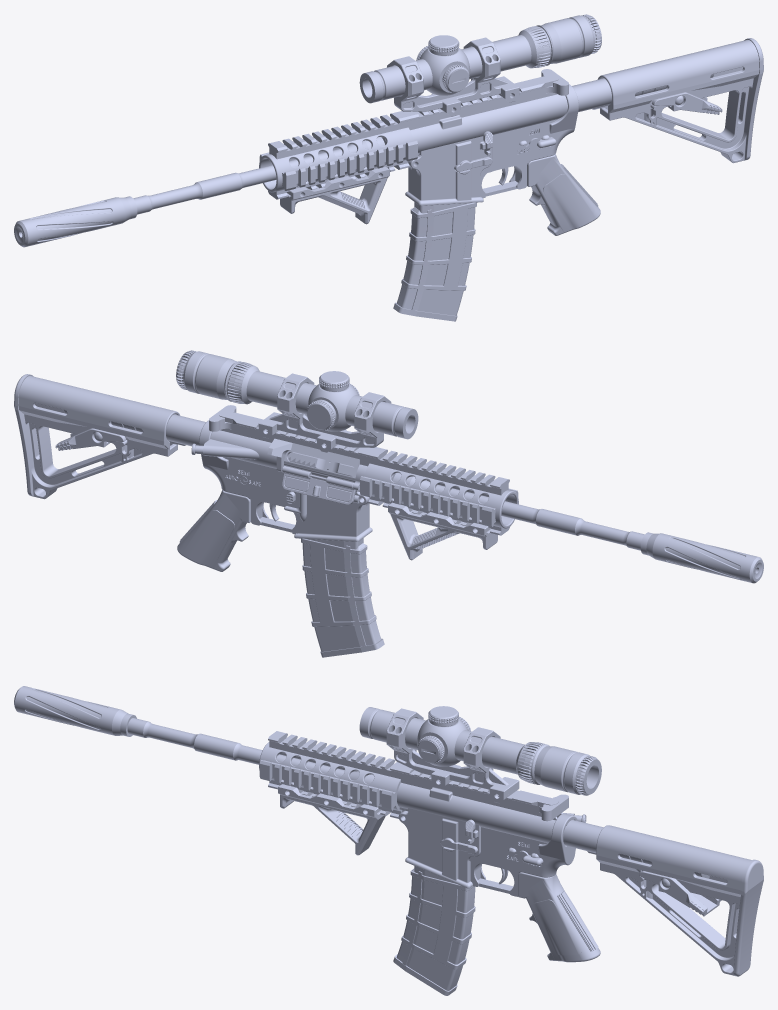
File: AR-15_Assembly.glb
3 views of the same model, one above another, from view 1: azimuth 30°, elevation 25°; view 2: azimuth 150°, elevation 25°; view 3: azimuth 330°, elevation 25° (orthographic).
Visible parts, largest first — view 1: Magpul MOE Carbine-1, Vortex Razor HD Gen III 1-10X24 Assembly-1/Vortex Razor HD G (×3), AR-15 Standard Handguard-1, AR15 Lower Receiver-1, PMAG 30 Gen M3 AR-15 Body-1, AR15 Upper Receiver-1, AR-15 Pistol Grip-1, 5.56 Banish Suppressor-1, AR-15 12.5 Barrel-1, Picatinny Angle Grip-1, Geissele 34MM Assembly-1/Geissele 34MM Body-1, Carbine-1 (+3 smaller); view 2: Magpul MOE Carbine-1, Vortex Razor HD Gen III 1-10X24 Assembly-1/Vortex Razor HD G (×3), AR-15 Standard Handguard-1, PMAG 30 Gen M3 AR-15 Body-1, AR15 Lower Receiver-1, AR15 Upper Receiver-1, AR-15 Pistol Grip-1, 5.56 Banish Suppressor-1, AR-15 12.5 Barrel-1, Picatinny Angle Grip-1, Geissele 34MM Assembly-1/Geissele 34MM Body-1, AR-15 Dust Cover-1 (+5 smaller); view 3: Magpul MOE Carbine-1, Vortex Razor HD Gen III 1-10X24 Assembly-1/Vortex Razor HD G (×3), AR15 Lower Receiver-1, AR-15 Standard Handguard-1, PMAG 30 Gen M3 AR-15 Body-1, AR15 Upper Receiver-1, AR-15 Pistol Grip-1, 5.56 Banish Suppressor-1, AR-15 12.5 Barrel-1, Geissele 34MM Assembly-1/Geissele 34MM Body-1, Picatinny Angle Grip-1, Adjuster-1 (+3 smaller).
Part boxes in pixels (x1,y1,x2,y2): Magpul MOE Carbine-1: [597, 38, 763, 163]; Vortex Razor HD Gen III 1-10X24 Assembly-1/Vortex Razor HD G (×3): [359, 14, 601, 103]; AR-15 Standard Handguard-1: [259, 111, 417, 199]; AR15 Lower Receiver-1: [405, 84, 578, 205]; PMAG 30 Gen M3 AR-15 Body-1: [396, 170, 476, 315]; AR15 Upper Receiver-1: [381, 74, 567, 155]; AR-15 Pistol Grip-1: [527, 153, 600, 235]; 5.56 Banish Suppressor-1: [14, 196, 137, 247]; AR-15 12.5 Barrel-1: [133, 137, 385, 214]; Picatinny Angle Grip-1: [280, 166, 389, 224]; Geissele 34MM Assembly-1/Geissele 34MM Body-1: [394, 60, 519, 116]; Carbine-1: [572, 74, 713, 111]; Magpul MOE Carbine-1: [14, 374, 180, 499]; Vortex Razor HD Gen III 1-10X24 Assembly-1/Vortex Razor HD G (×3): [176, 350, 418, 439]; AR-15 Standard Handguard-1: [360, 447, 518, 535]; PMAG 30 Gen M3 AR-15 Body-1: [301, 538, 381, 651]; AR15 Lower Receiver-1: [199, 420, 372, 541]; AR15 Upper Receiver-1: [203, 410, 396, 492]; AR-15 Pistol Grip-1: [177, 490, 250, 571]; 5.56 Banish Suppressor-1: [640, 532, 763, 583]; AR-15 12.5 Barrel-1: [392, 473, 644, 550]; Picatinny Angle Grip-1: [388, 502, 497, 560]; Geissele 34MM Assembly-1/Geissele 34MM Body-1: [258, 396, 383, 452]; AR-15 Dust Cover-1: [282, 466, 355, 504]; Magpul MOE Carbine-1: [596, 825, 763, 976]; Vortex Razor HD Gen III 1-10X24 Assembly-1/Vortex Razor HD G (×3): [359, 706, 601, 795]; AR15 Lower Receiver-1: [398, 810, 577, 896]; AR-15 Standard Handguard-1: [259, 731, 404, 818]; PMAG 30 Gen M3 AR-15 Body-1: [396, 866, 475, 990]; AR15 Upper Receiver-1: [397, 765, 574, 844]; AR-15 Pistol Grip-1: [518, 872, 600, 962]; 5.56 Banish Suppressor-1: [14, 686, 136, 736]; AR-15 12.5 Barrel-1: [127, 718, 374, 783]; Geissele 34MM Assembly-1/Geissele 34MM Body-1: [386, 731, 519, 803]; Picatinny Angle Grip-1: [278, 784, 385, 855]; Adjuster-1: [639, 871, 721, 916].
Bounding box in the file's own units: 0.151 × 0.0547 × 0.0123.
